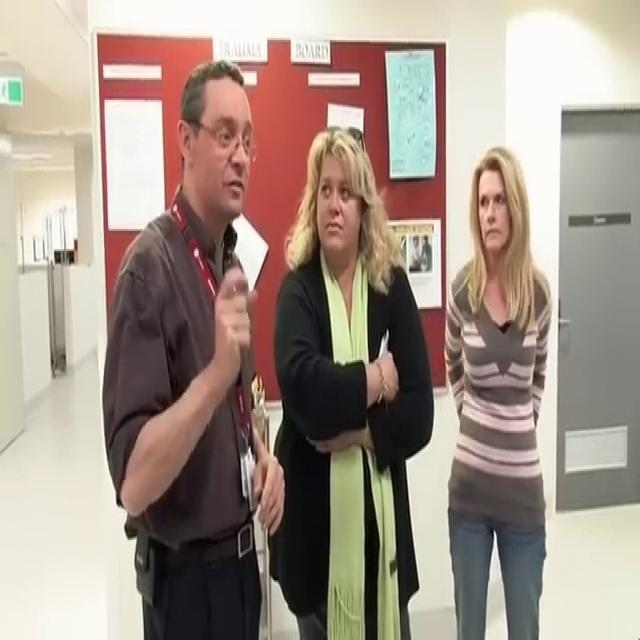doctor: (101, 58, 285, 638)
others: (268, 124, 434, 638), (443, 144, 552, 638)
